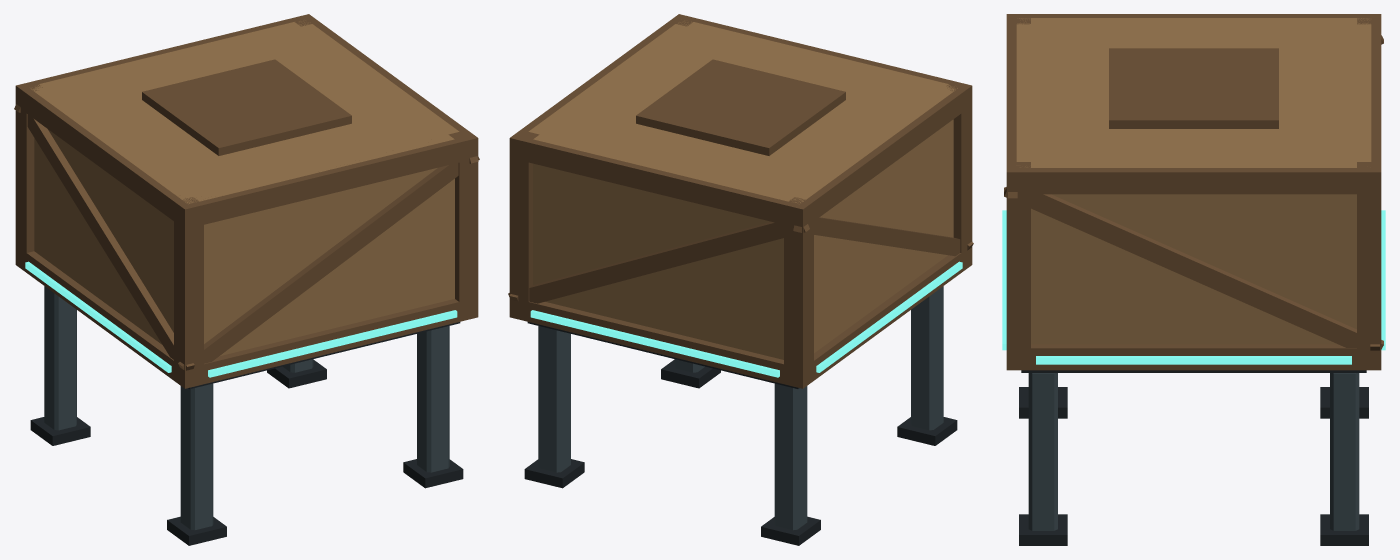
File: Env_HideBox.fbx
3 renders of one model, left to right at view 1: azimuth 30°, elevation 25°; view 2: azimuth 150°, elevation 25°; view 3: azimuth 270°, elevation 25°, orthographic. The views are drawn at different scales.
Visible parts, largest first — view 1: Env_HideBox; view 2: Env_HideBox; view 3: Env_HideBox.
Part boxes in pixels (x1=…): Env_HideBox: x1=14, y1=14, x2=479, y2=545; Env_HideBox: x1=508, y1=14, x2=973, y2=545; Env_HideBox: x1=1002, y1=14, x2=1385, y2=545.
Size of the model in its own units: 1.58 by 1.58 by 1.76.
